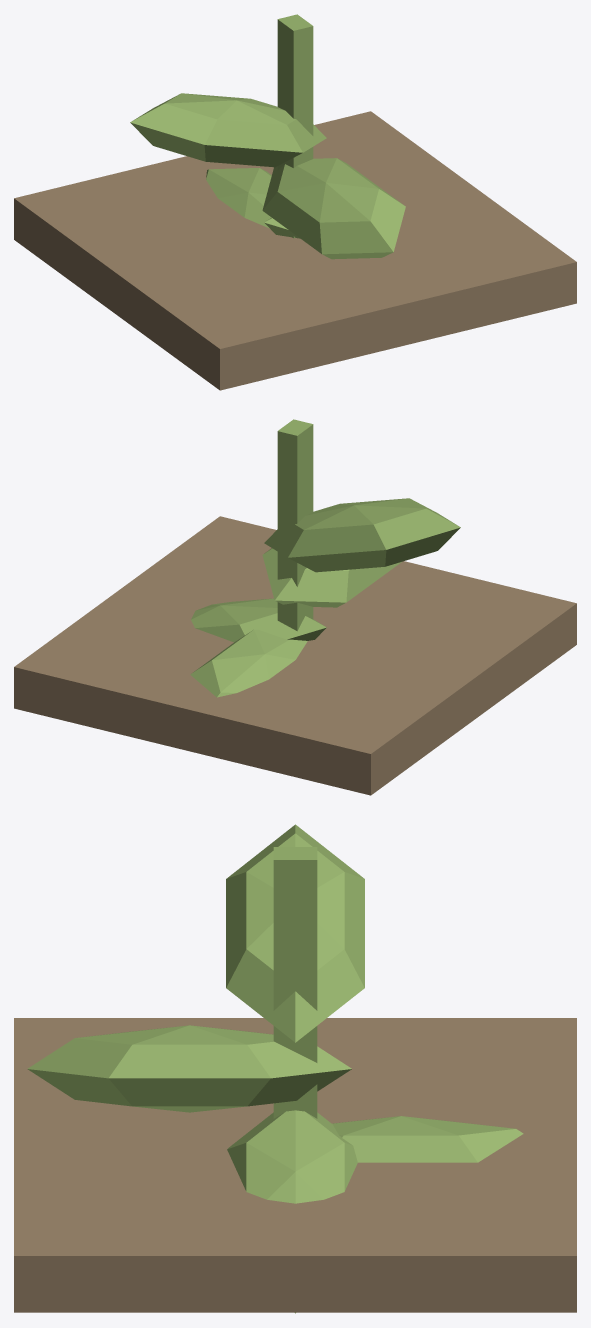
Rendered from cozy-farm-and-homestead-maize-seedling-674115a9__19425.glb.
3 views of the same model, one above another, from view 1: azimuth 30°, elevation 25°; view 2: azimuth 150°, elevation 25°; view 3: azimuth 270°, elevation 25° (orthographic). The views are drawn at different scales.
Visible parts, largest first — view 1: maize-seedling; view 2: maize-seedling; view 3: maize-seedling.
Boxes of the visible parts, x1,y1,x2,y2 form: maize-seedling: [14, 14, 576, 390]; maize-seedling: [14, 419, 576, 795]; maize-seedling: [14, 824, 576, 1313].
Size of the model in its own units: 0.45 by 0.3209 by 0.45.
